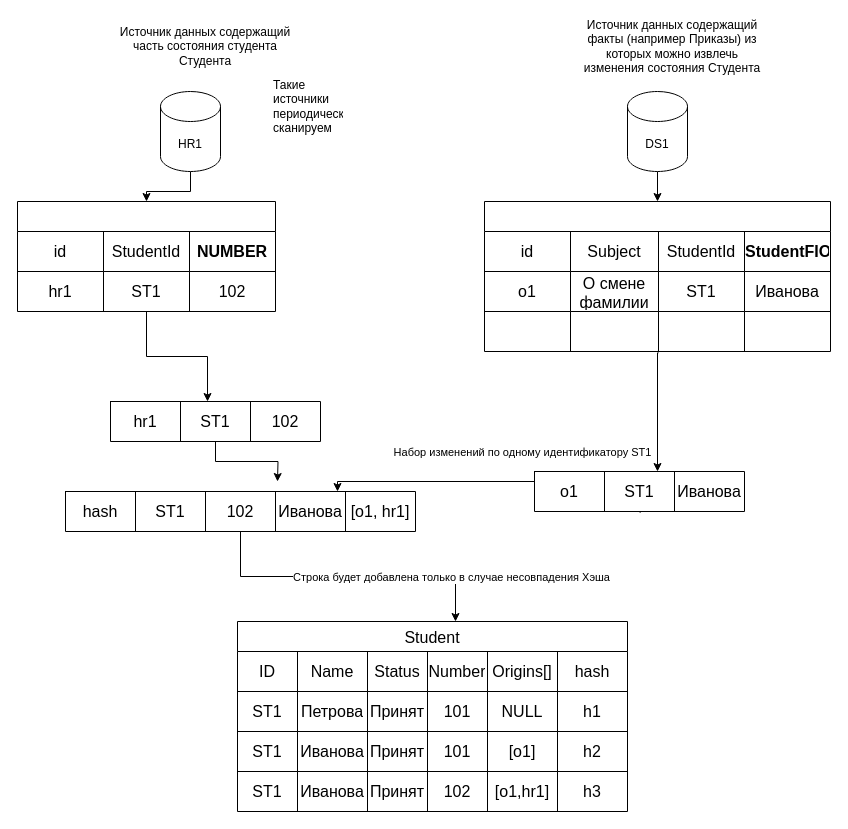
The diagram is 848 pixels wide and 829 high, and some of its shapes have lost their labels. Each missing label, with the box of its shape:
Приказы: (484, 200, 830, 352)
Табельные номера: (16, 200, 276, 312)
